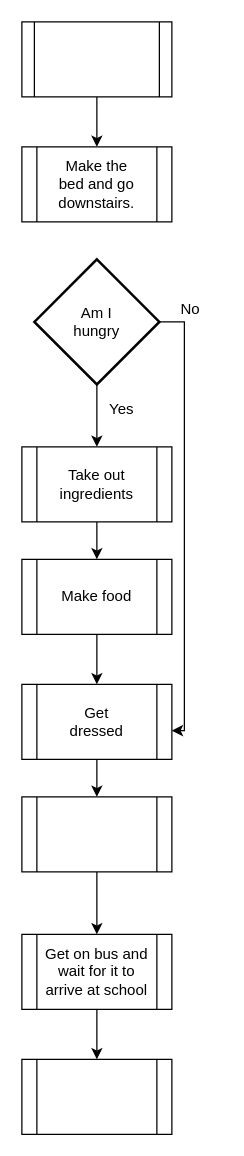
Some shapes in this 244 by 1156 pixel diagram are drawn without their labels. Each missing label, with the box of its shape:
Get of bus when at school: (21, 1058, 172, 1134)
Wait for bus at bus stop: (21, 796, 172, 872)
Wake up: (21, 21, 172, 97)
